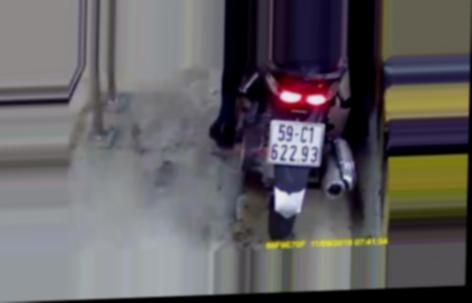License_Plate: (262, 116, 329, 170)
